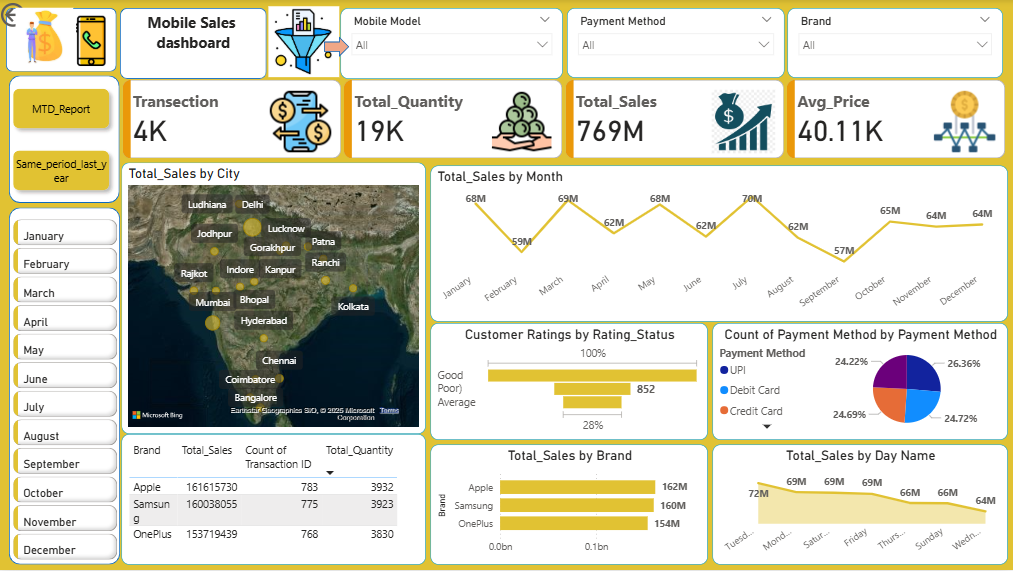

The dashboard page shown, as its layout file describes it:
{"tool":"powerbi","page":{"name":"Dashboard","canvas":[1280,720],"ordinal":0},"visuals":[{"type":"shape","box":[12.1,10.6,139.3,80.3],"z":0},{"type":"shape","box":[15.1,96.9,139.3,160.5],"z":1000},{"type":"shape","box":[15.1,262.7,139.8,449.8],"z":2000},{"type":"advancedSlicerVisual","fields":{"Values":["Calender.Date.Variation.Date Hierarchy.Month"]},"box":[15.1,272.1,141.7,447.9],"z":3000},{"type":"cardVisual","fields":{"Data":["Sheet.Number_of_Transection","Sheet.Total_Quantity","Sheet.Total_Amount","Calender.Avg_Price_Per_Unit"]},"box":[152.9,96.9,1125.1,109],"z":4000},{"type":"slicer","fields":{"Values":["Sheet.Mobile Model"]},"box":[433.1,10.6,280.1,89.3],"z":5000},{"type":"actionButton","box":[0,0,100,40],"z":6000},{"type":"slicer","fields":{"Values":["Sheet.Payment Method"]},"box":[717.7,10.6,274.1,87.8],"z":7000},{"type":"slicer","fields":{"Values":["Sheet.Brand"]},"box":[996.3,10.6,271,87.8],"z":8000},{"type":"image","box":[252.9,4.5,266.5,99.9],"z":9000},{"type":"shape","box":[411.9,46.9,31.8,25.7],"z":10000},{"type":"shape","box":[154.4,10.6,184.7,89.3],"z":11000},{"type":"textbox","box":[154.4,10.6,184.7,87.8],"z":12000},{"type":"map","fields":{"Category":["Sheet.City"],"Size":["Sheet.Total_Sales"]},"box":[156.9,206,383.6,342],"z":13000},{"type":"lineChart","fields":{"Category":["Calender.Date.Variation.Date Hierarchy.Month"],"Y":["Sheet.Total_Sales"]},"box":[546.1,209.8,727.6,196.5],"z":14000},{"type":"funnel","title":"Customer Ratings by Rating_Status","fields":{"Category":["Sheet.Rating_Catagory"],"Y":["CountNonNull(Sheet.Customer Ratings)"]},"box":[546.1,408.2,349.6,147.4],"z":15000},{"type":"pieChart","fields":{"Category":["Sheet.Payment Method"],"Y":["CountNonNull(Sheet.Payment Method)"]},"box":[901.4,408.2,372.3,147.4],"z":16000},{"type":"barChart","fields":{"Category":["Sheet.Brand"],"Y":["Sheet.Total_Sales"]},"box":[546.1,561.3,349.6,151.2],"z":17000},{"type":"areaChart","fields":{"Category":["Calender.Day Name"],"Y":["Sheet.Total_Sales"]},"box":[901.4,561.3,372.3,151.2],"z":18000},{"type":"tableEx","fields":{"Values":["Sheet.Brand","Sheet.Total_Sales","CountNonNull(Sheet.Transaction ID)","Sheet.Total_Quantity"]},"box":[156.9,548,383.6,164.4],"z":19000},{"type":"pageNavigator","box":[11.3,103.9,139.8,147.4],"z":20000},{"type":"image","box":[81.3,3.8,73.7,98.3],"z":21000},{"type":"image","box":[11.3,5.7,96.4,83.2],"z":22000}]}

Visuals, with their boxes in screenshot pixels (x1, y1, x2, y2), scaled from the page's 1280x720 canvas onto the 1013x571 screenshot:
shape: <box>10,8,120,72</box>
shape: <box>12,77,122,204</box>
shape: <box>12,208,123,565</box>
advancedSlicerVisual - Calender.Date.Variation.Date Hierarchy.Month: <box>12,216,124,570</box>
cardVisual - Sheet.Number_of_Transection x Sheet.Total_Quantity: <box>121,77,1011,163</box>
slicer - Sheet.Mobile Model: <box>343,8,564,79</box>
actionButton: <box>0,0,79,32</box>
slicer - Sheet.Payment Method: <box>568,8,785,78</box>
slicer - Sheet.Brand: <box>788,8,1003,78</box>
image: <box>200,4,411,83</box>
shape: <box>326,37,351,58</box>
shape: <box>122,8,268,79</box>
textbox: <box>122,8,268,78</box>
map - Sheet.City x Sheet.Total_Sales: <box>124,163,428,435</box>
lineChart - Calender.Date.Variation.Date Hierarchy.Month x Sheet.Total_Sales: <box>432,166,1008,322</box>
"Customer Ratings by Rating_Status" funnel: <box>432,324,709,441</box>
pieChart - Sheet.Payment Method x CountNonNull(Sheet.Payment Method): <box>713,324,1008,441</box>
barChart - Sheet.Brand x Sheet.Total_Sales: <box>432,445,709,565</box>
areaChart - Calender.Day Name x Sheet.Total_Sales: <box>713,445,1008,565</box>
tableEx - Sheet.Brand x Sheet.Total_Sales: <box>124,435,428,565</box>
pageNavigator: <box>9,82,120,199</box>
image: <box>64,3,123,81</box>
image: <box>9,5,85,71</box>
